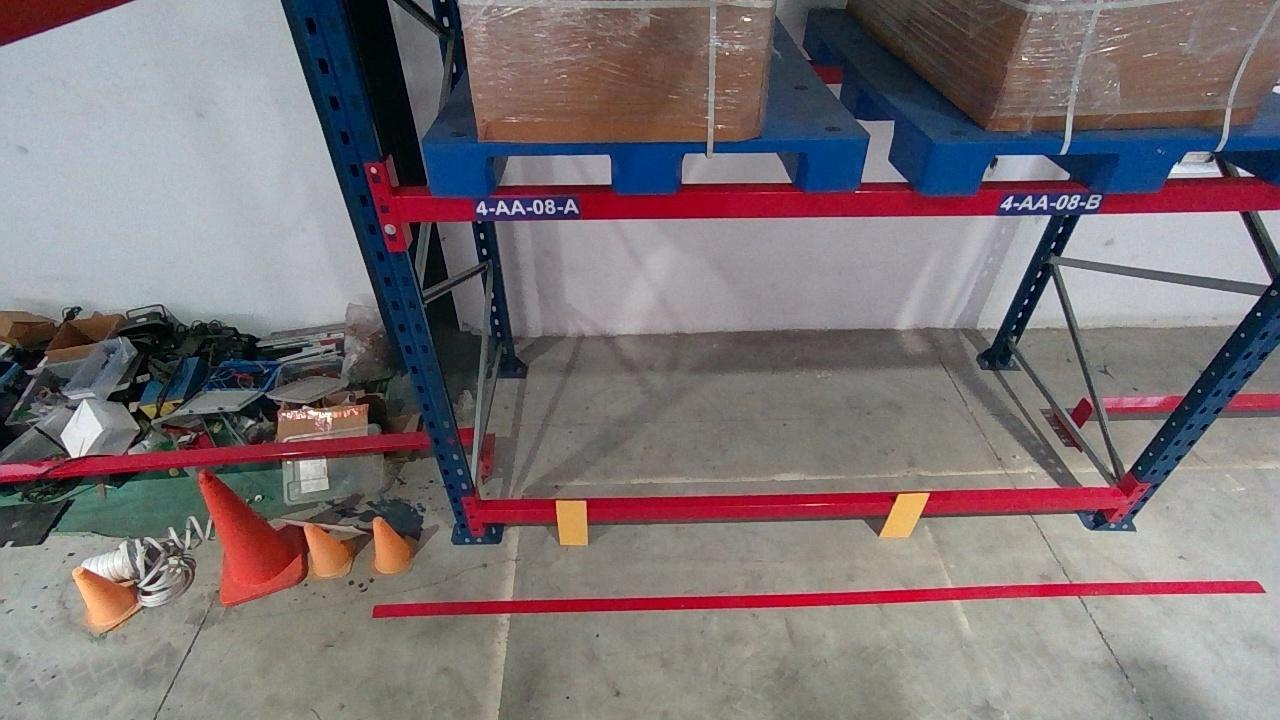h_rack: (401, 186, 1279, 218), (479, 494, 1125, 522)
orange_strip: (879, 493, 930, 537), (554, 501, 587, 545)
red_line: (369, 577, 1260, 617)
small_pallet: (426, 138, 867, 191), (923, 136, 1279, 192)
